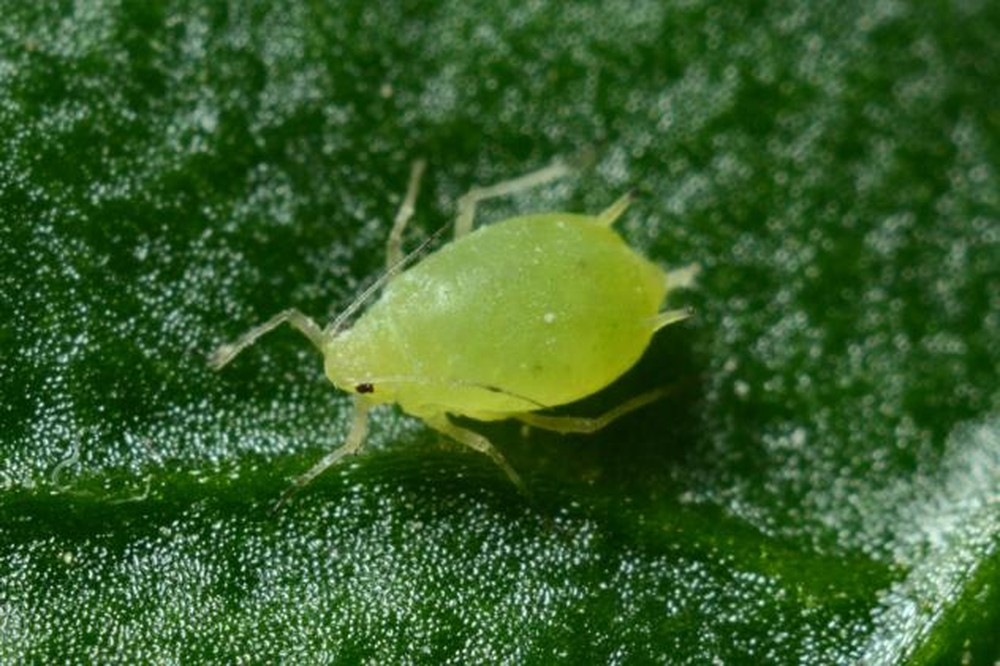Pulgon: (205, 148, 741, 513)
